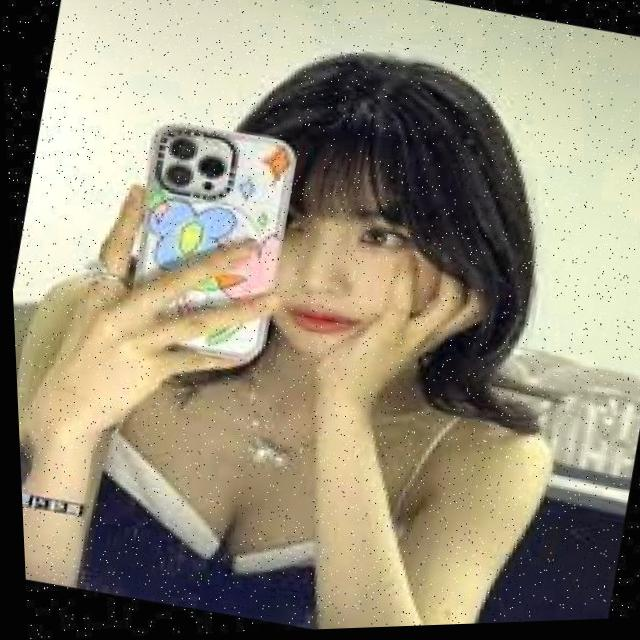Smartphone: (112, 118, 301, 378)
